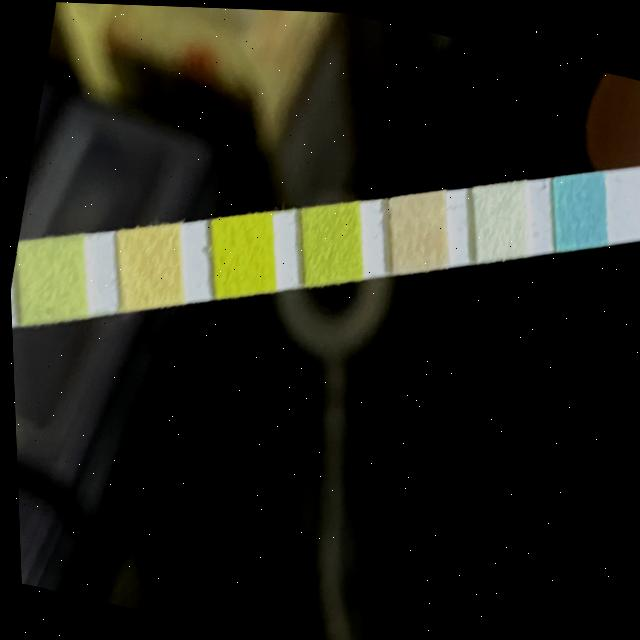Bilirubin: (473, 185, 528, 254)
Blood: (211, 218, 273, 292)
Glucose: (551, 174, 606, 243)
Ketone: (388, 193, 447, 268)
Protein: (16, 245, 87, 319)
SpGravity: (300, 207, 361, 279)
pH: (117, 229, 181, 307)
